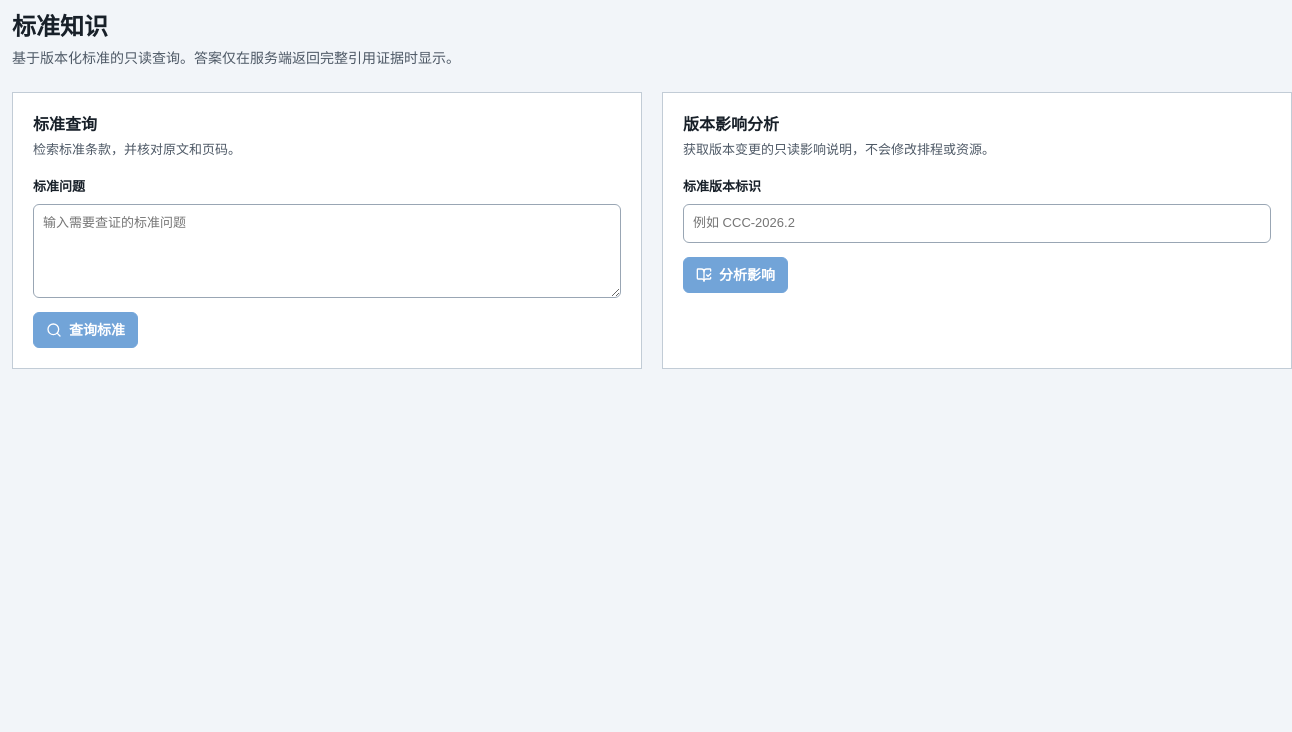
Test: KnowledgePage › renders a standards answer only with complete source citations
In the text box labelled "标准问题": (327, 251) 33,204 -> 621,298, type "环境箱故障期间如何安排？"
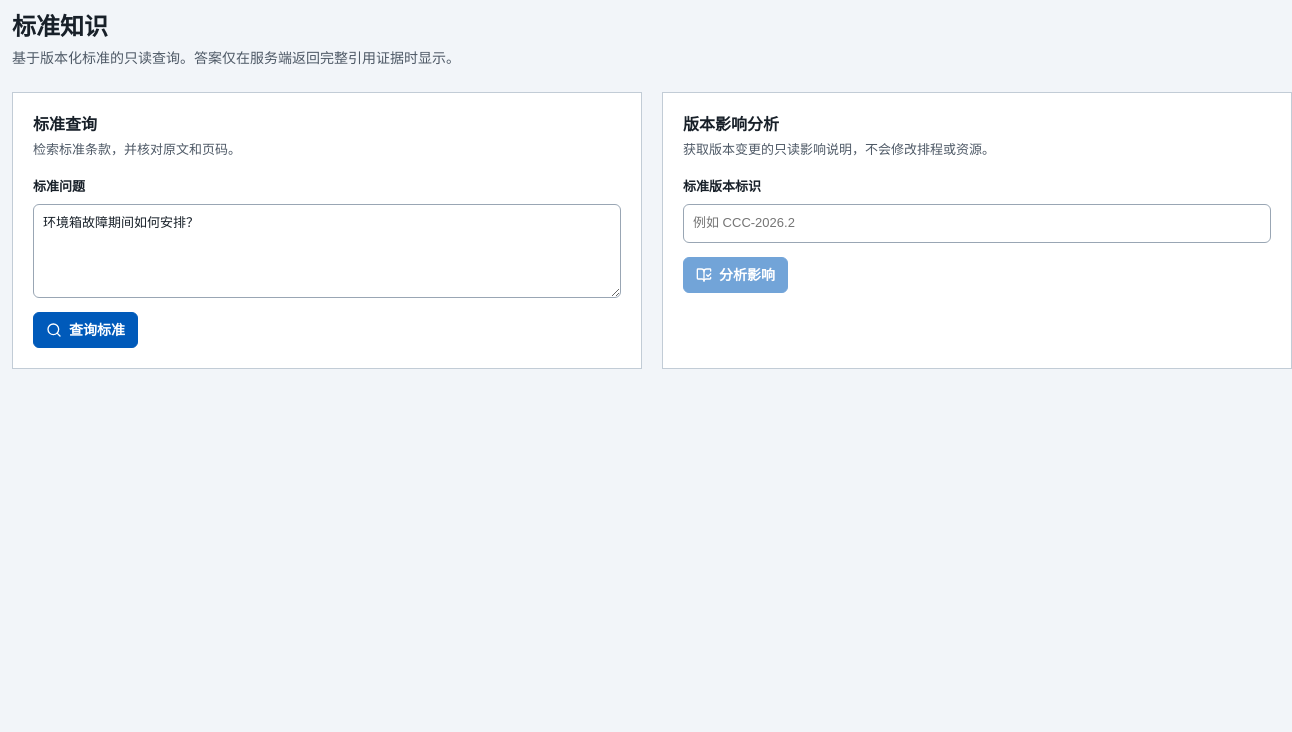
Click the button "查询标准": (86, 330) 33,312 -> 138,348
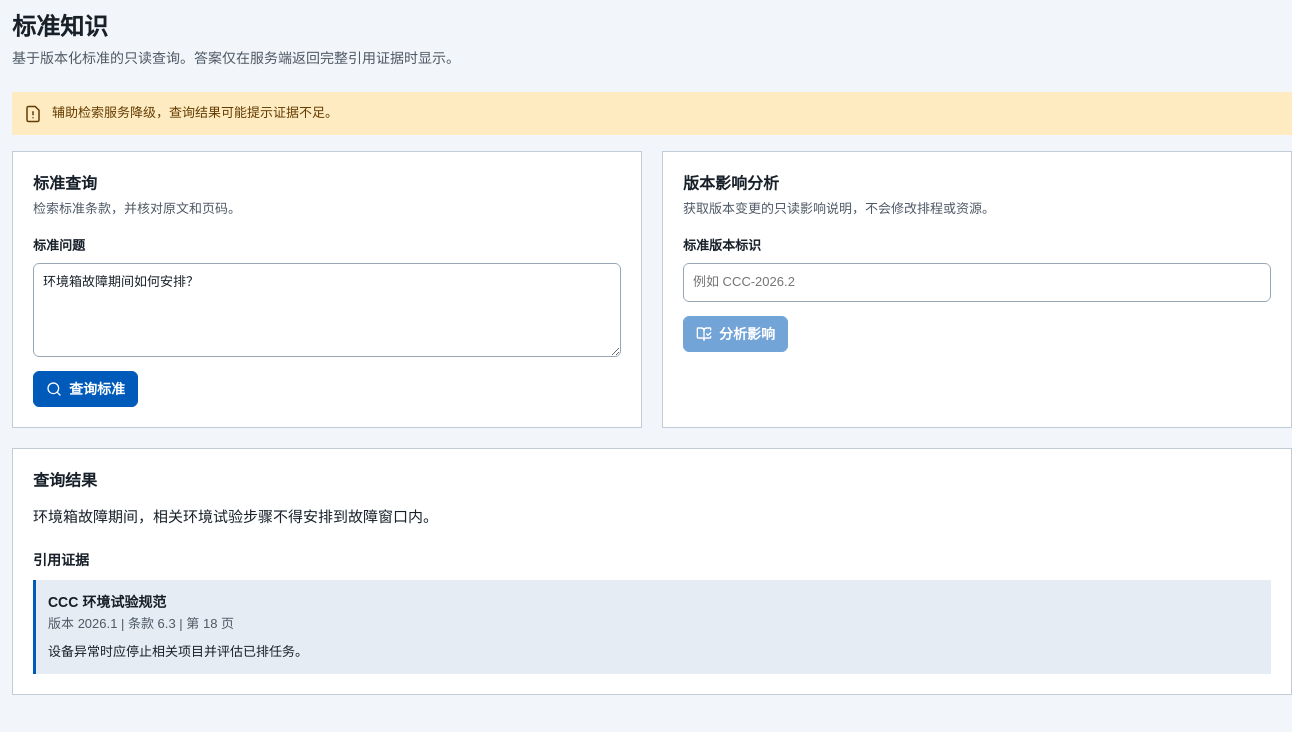
Now the text "CCC 环境试验规范" is shown, box 48,594 -> 166,610
Now the text "版本 2026.1 | 条款 6.3 | 第 18 页" is shown, box 48,616 -> 234,631
Now the text "设备异常时应停止相关项目并评估已排任务。" is shown, box 48,644 -> 308,659
